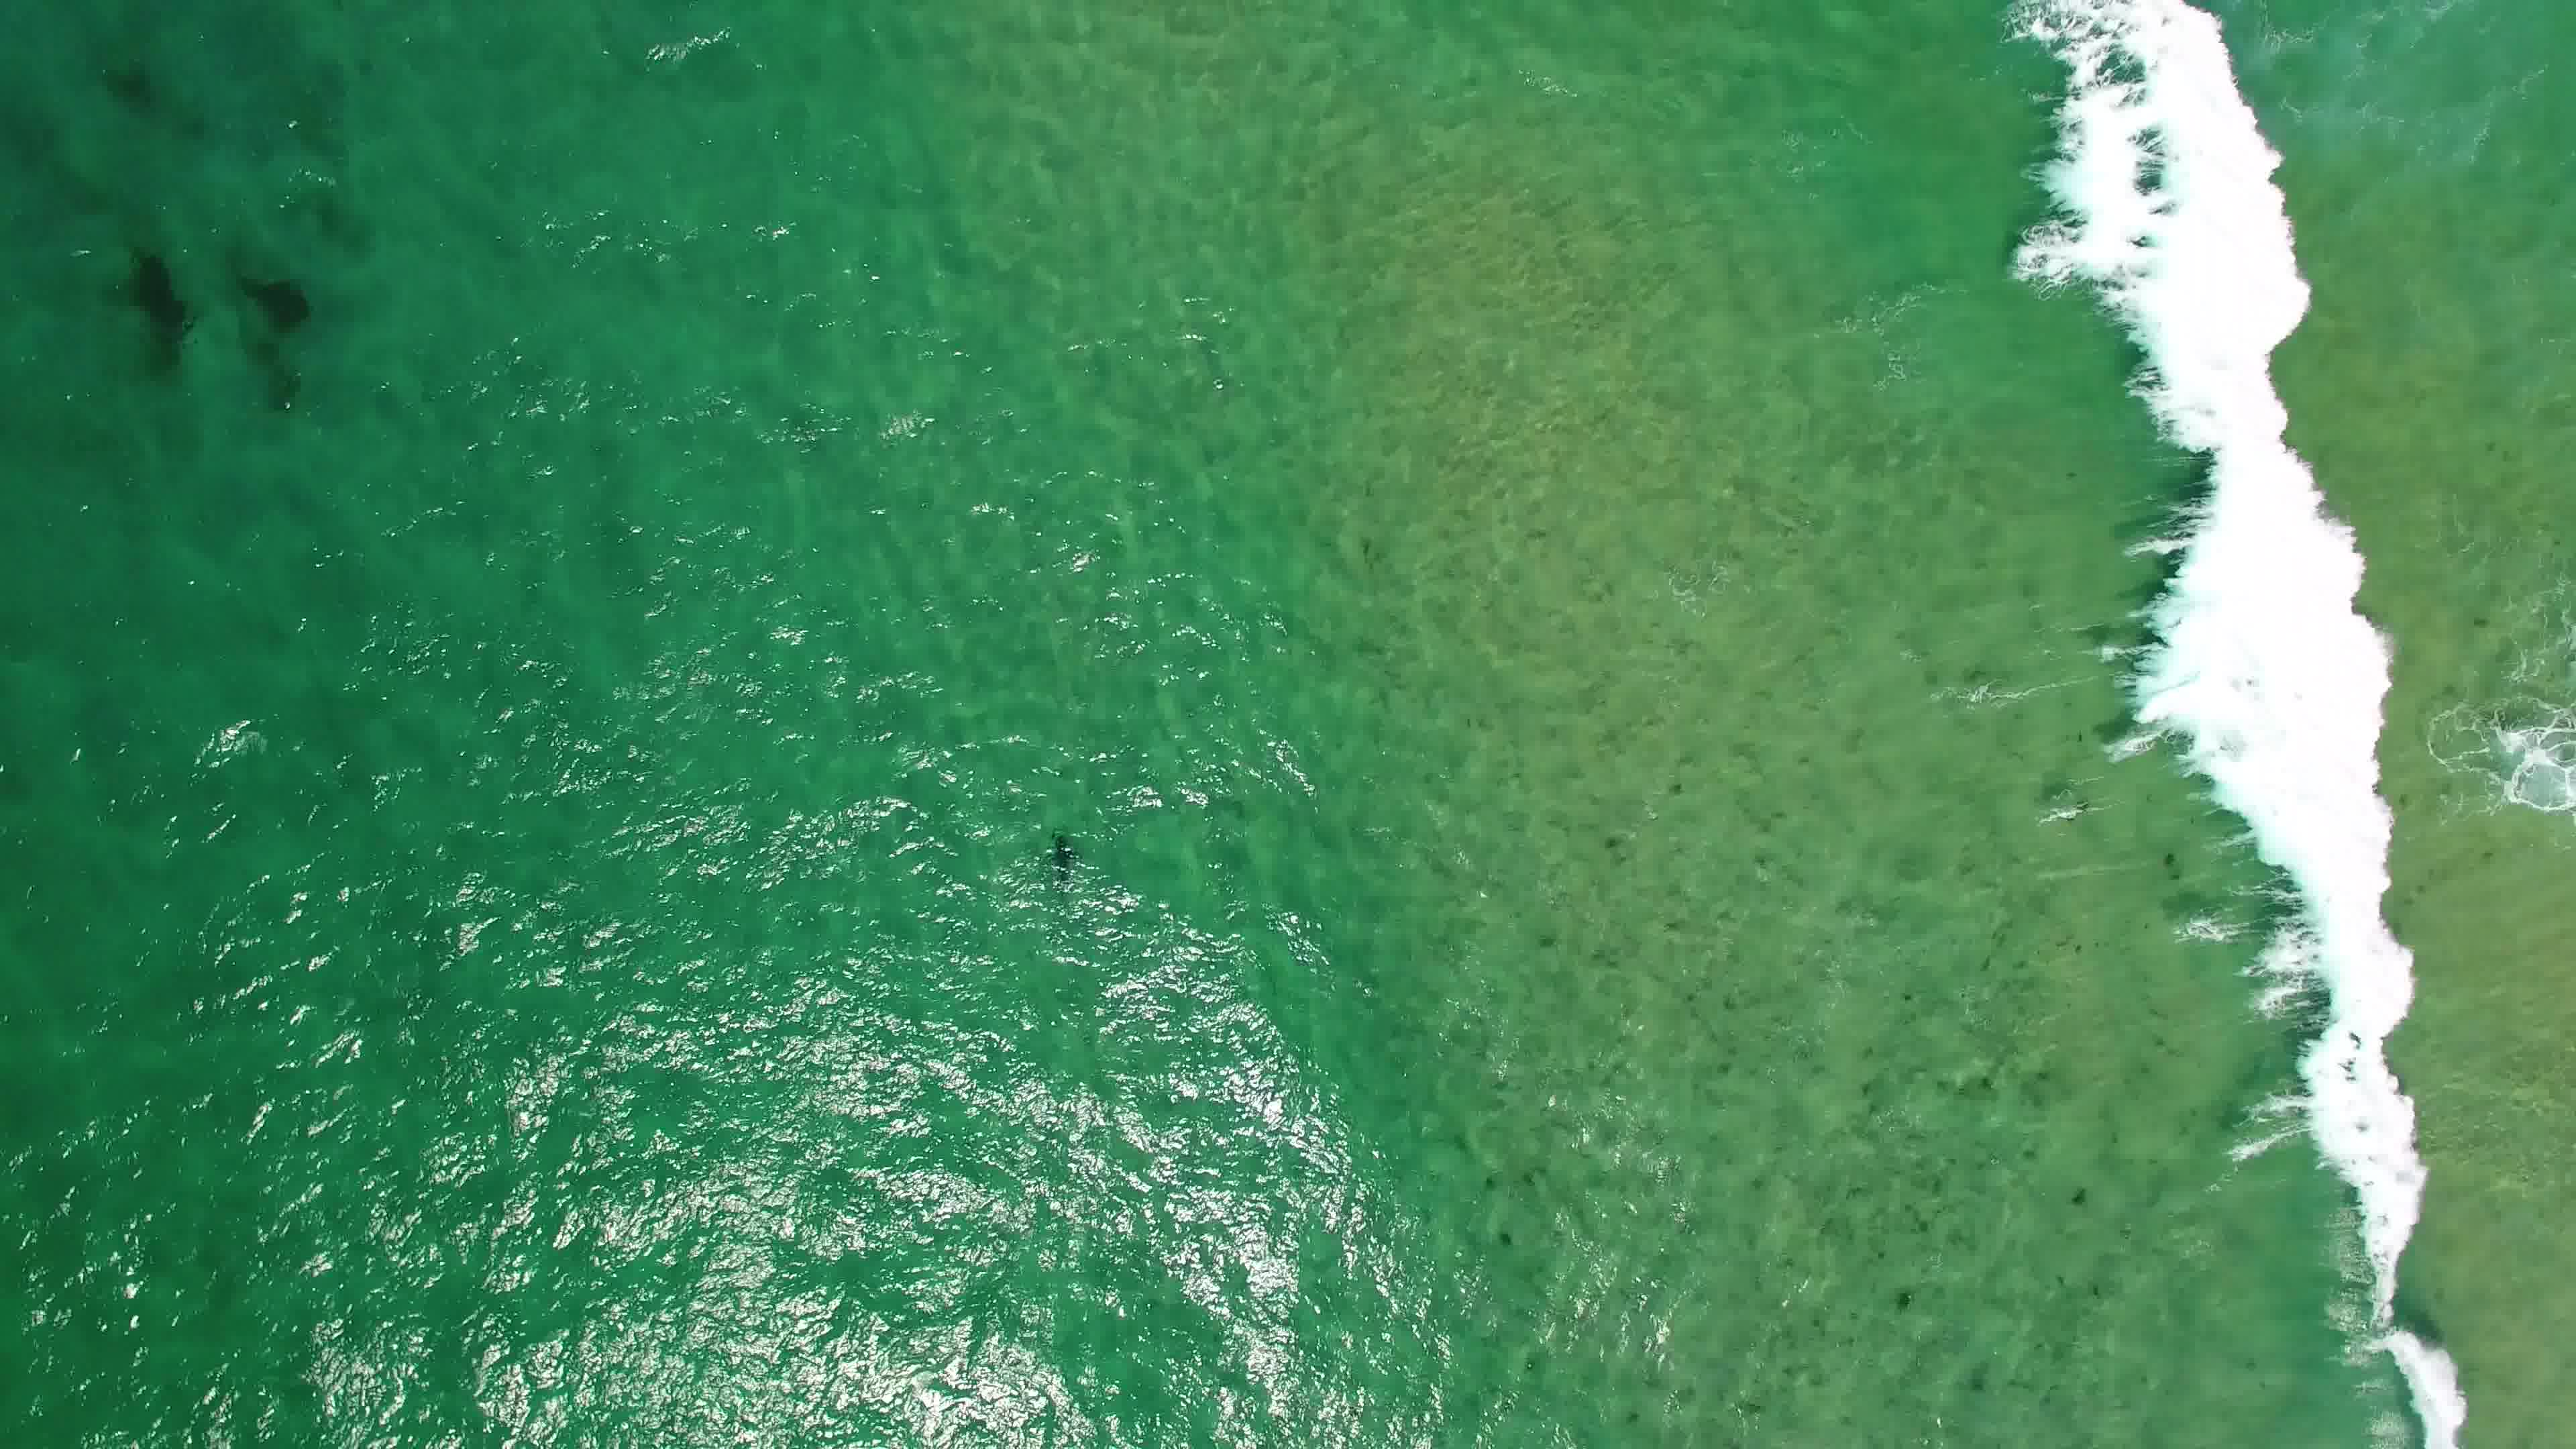shark: (1044, 828, 1085, 911)
